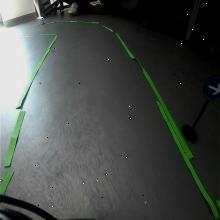right: (203, 74, 220, 101)
